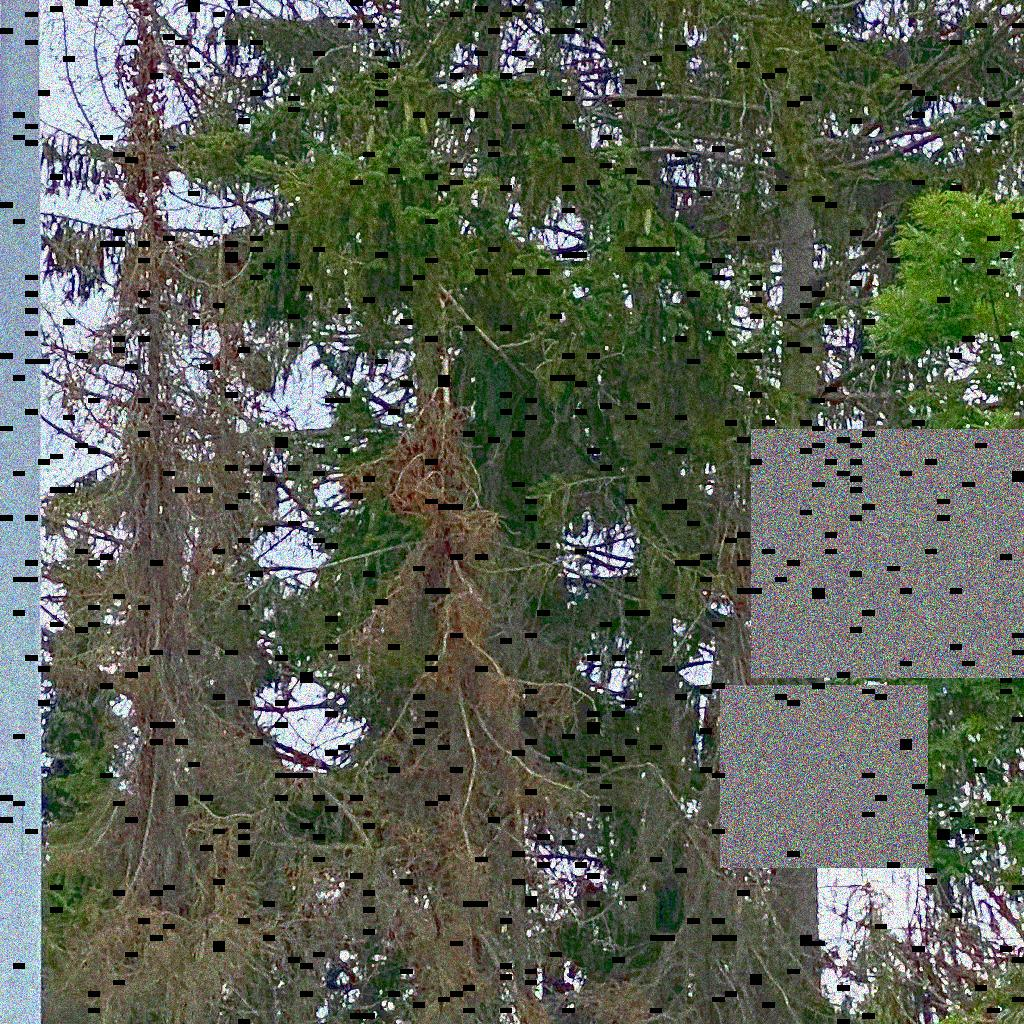tree: (113, 1, 1023, 1023), (48, 1, 323, 1023), (327, 351, 557, 1023), (864, 183, 1023, 935)
